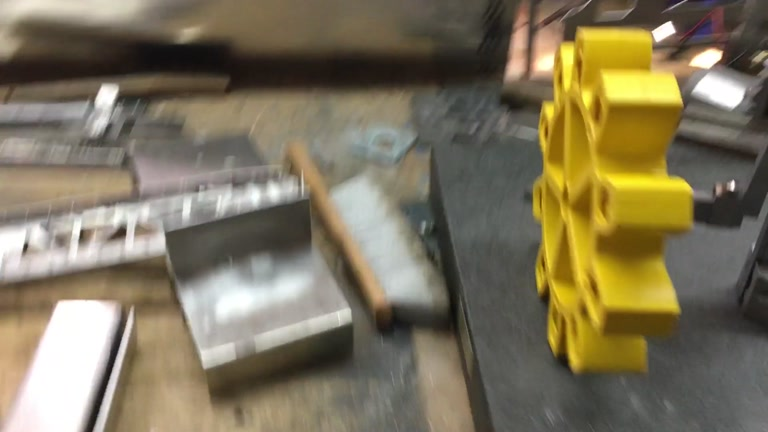gear: (531, 26, 696, 376)
